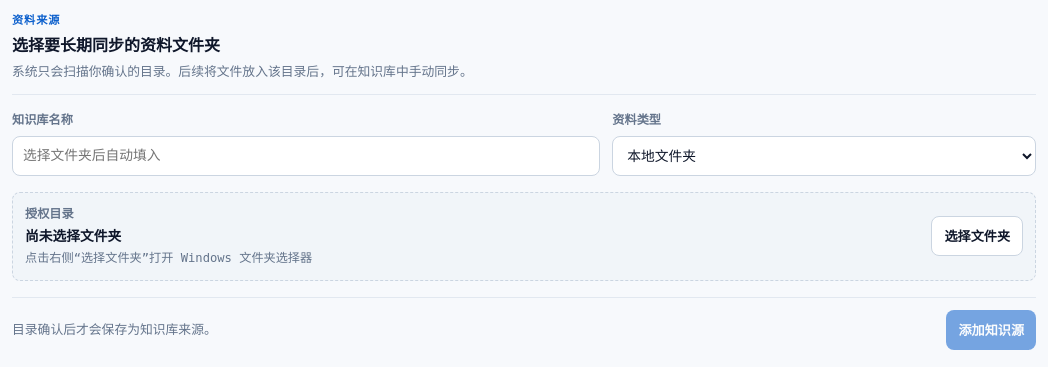
Scenario: KnowledgeSourceForm › uses the native selection result and derives an empty name from the folder
The width and height of the screenshot is (1048, 367).
Step 1. Click the button with class "browse-action" → (977, 236), box [931,216,1023,256]
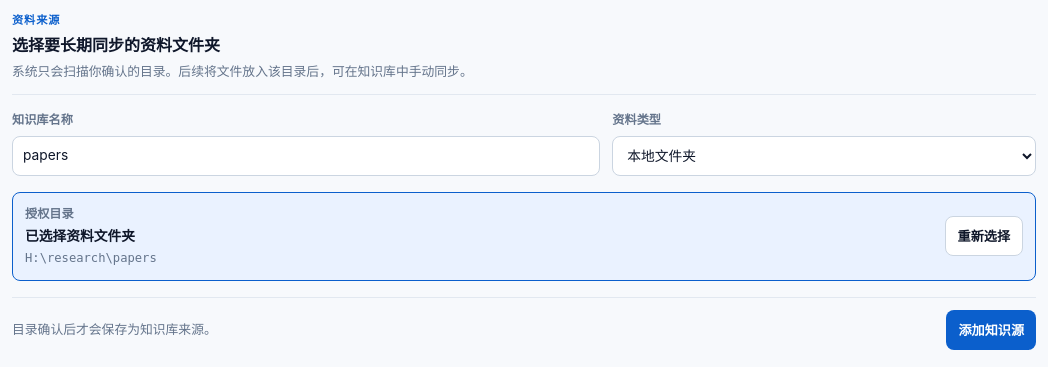
expect the text "H:\\research\\papers" is shown: met, box [25,249,157,268]
expect the field labelled "知识库名称" holds "papers": met, box [12,136,600,176]
